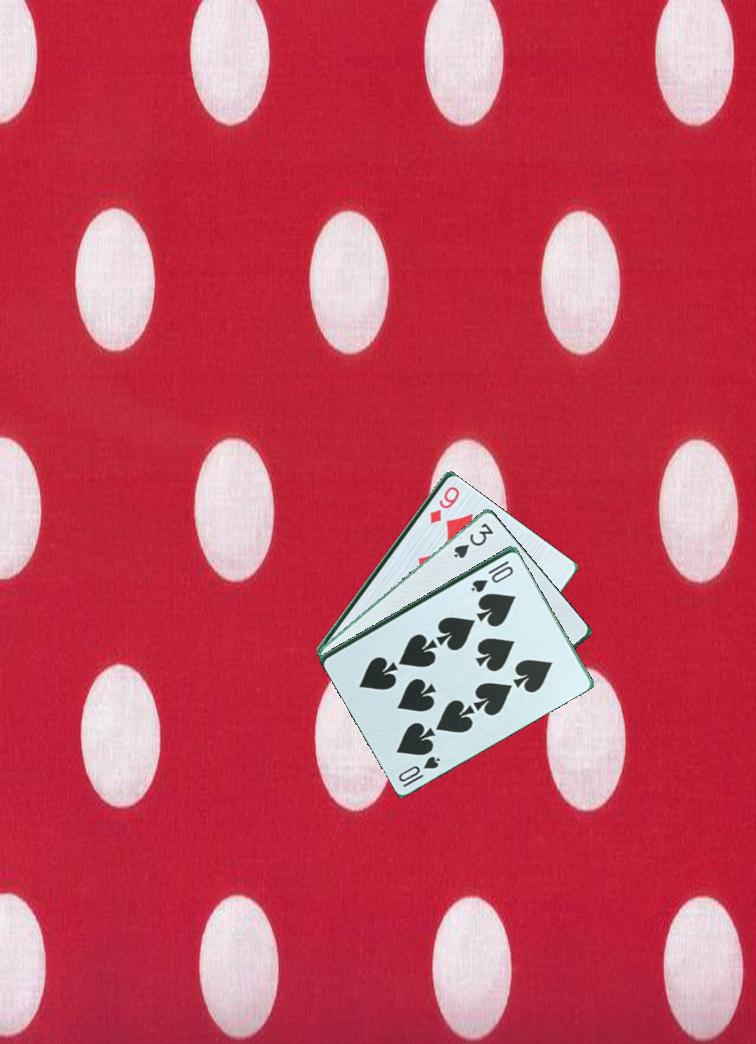3s: (450, 519, 496, 561)
9d: (426, 482, 462, 526)
ts: (395, 752, 443, 790), (467, 557, 516, 594)
